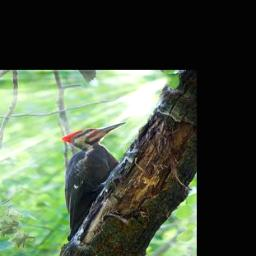Woodpecker: (60, 121, 128, 242)
